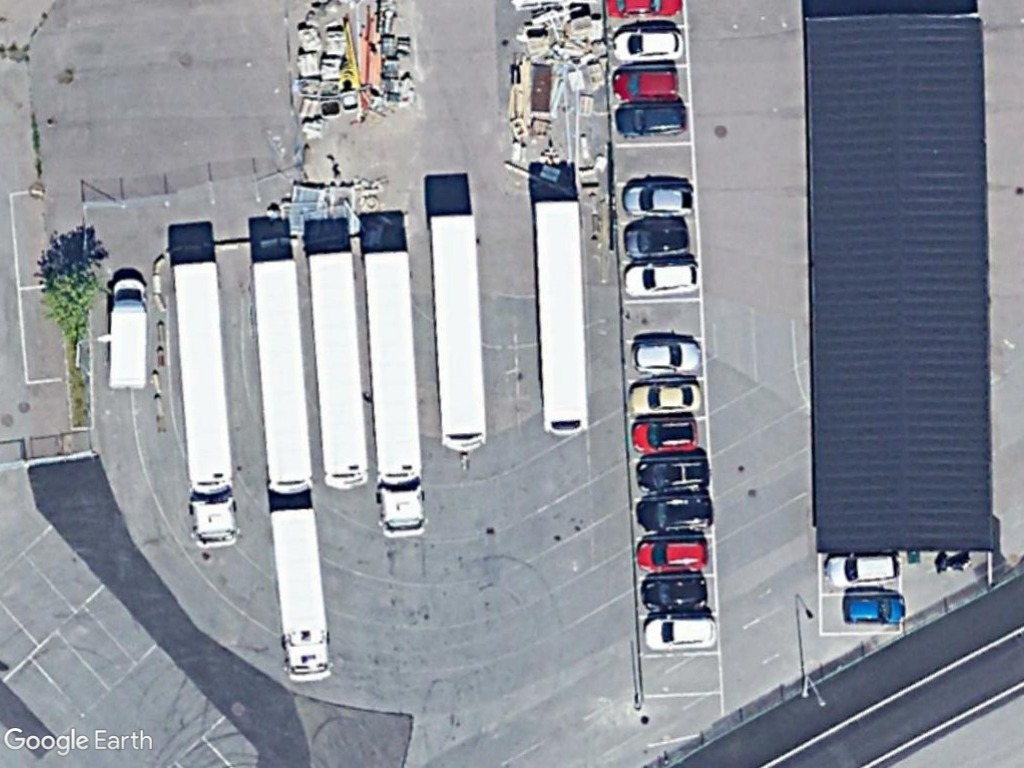car: (632, 488, 722, 541), (619, 255, 704, 306), (628, 449, 715, 498), (608, 97, 698, 143), (625, 373, 711, 421), (818, 547, 910, 591), (615, 173, 701, 220), (615, 214, 694, 265), (602, 60, 686, 107), (633, 528, 715, 576), (633, 564, 715, 610), (623, 336, 705, 381), (626, 409, 702, 457), (642, 610, 724, 654), (609, 22, 689, 67), (833, 586, 917, 627)
longvehicle: (357, 243, 437, 548), (170, 256, 250, 557)
truck: (263, 495, 341, 687)
van: (103, 272, 152, 398)
